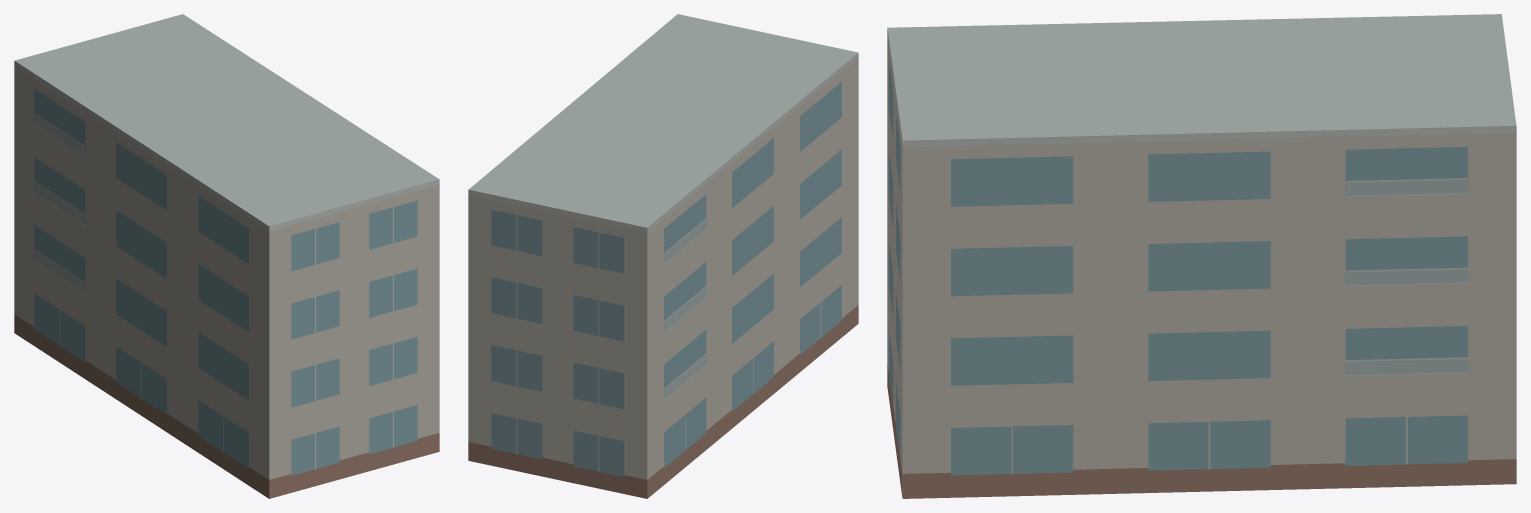
The model's file is survey-upis-32763166.glb.
3 renders of one model, left to right at view 1: azimuth 30°, elevation 25°; view 2: azimuth 150°, elevation 25°; view 3: azimuth 270°, elevation 25°, orthographic. The views are drawn at different scales.
Visible parts, largest first — view 1: survey-upis-32763166.tmp; view 2: survey-upis-32763166.tmp; view 3: survey-upis-32763166.tmp.
Part boxes in pixels (x1,y1,x2,y2): survey-upis-32763166.tmp: [14, 14, 439, 498]; survey-upis-32763166.tmp: [468, 14, 858, 498]; survey-upis-32763166.tmp: [887, 14, 1516, 498].
Size of the model in its own units: 9.55 by 12.6 by 20.06.
